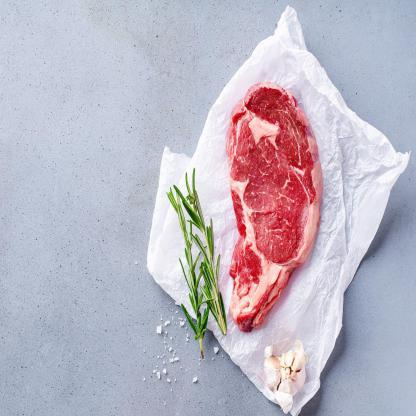beef: (226, 89, 322, 329)
